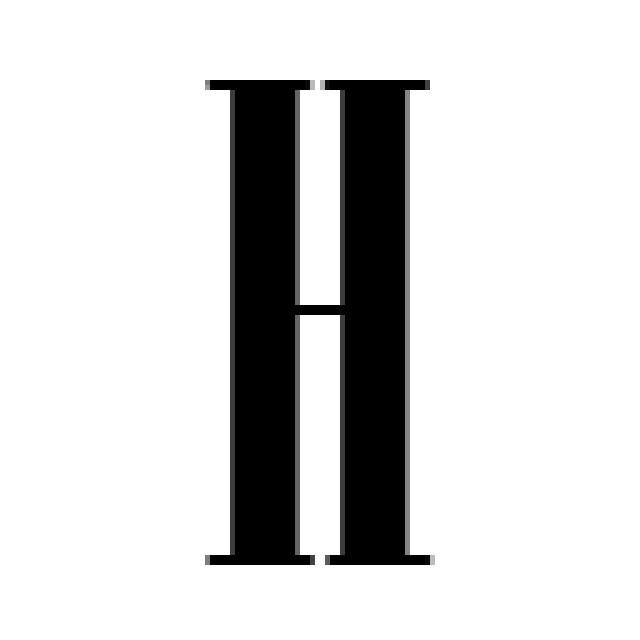H: (195, 70, 435, 570)
